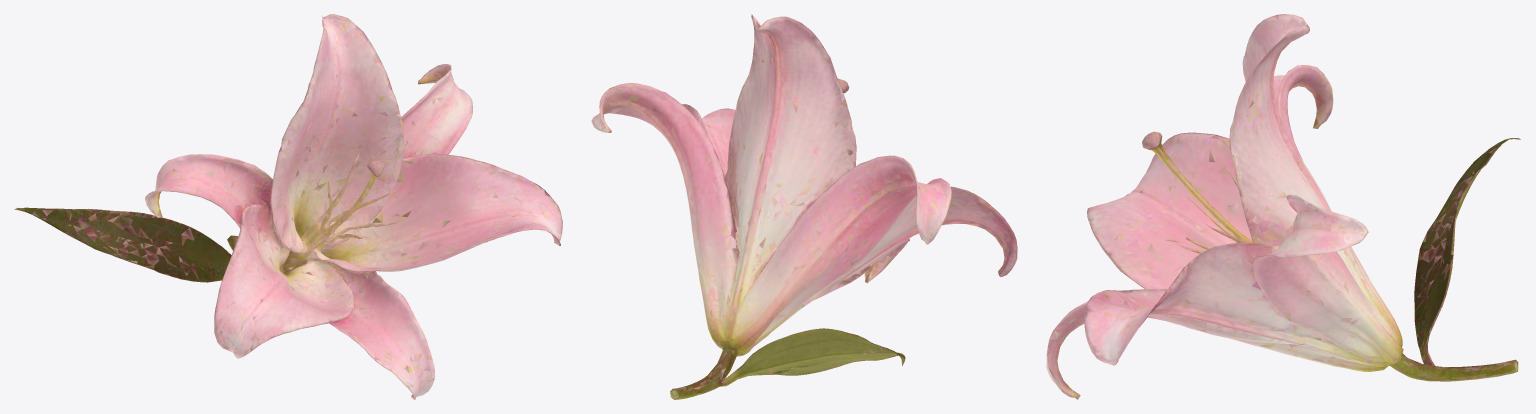
Rendered from bouquet.glb.
3 views of the same model, side by side, from view 1: azimuth 30°, elevation 25°; view 2: azimuth 150°, elevation 25°; view 3: azimuth 270°, elevation 25° (orthographic). The views are drawn at different scales.
Visible parts, largest first — view 1: MRKT058-W01-1-1.001_0; view 2: MRKT058-W01-1-1.001_0; view 3: MRKT058-W01-1-1.001_0.
Boxes of the visible parts, x1,y1,x2,y2 form: MRKT058-W01-1-1.001_0: (14, 14, 562, 399); MRKT058-W01-1-1.001_0: (591, 14, 1017, 399); MRKT058-W01-1-1.001_0: (1046, 14, 1520, 399).
Bounding box in the file's own units: 0.1825 × 0.1431 × 0.1608.
Materials: 1 (1 with a texture image).
